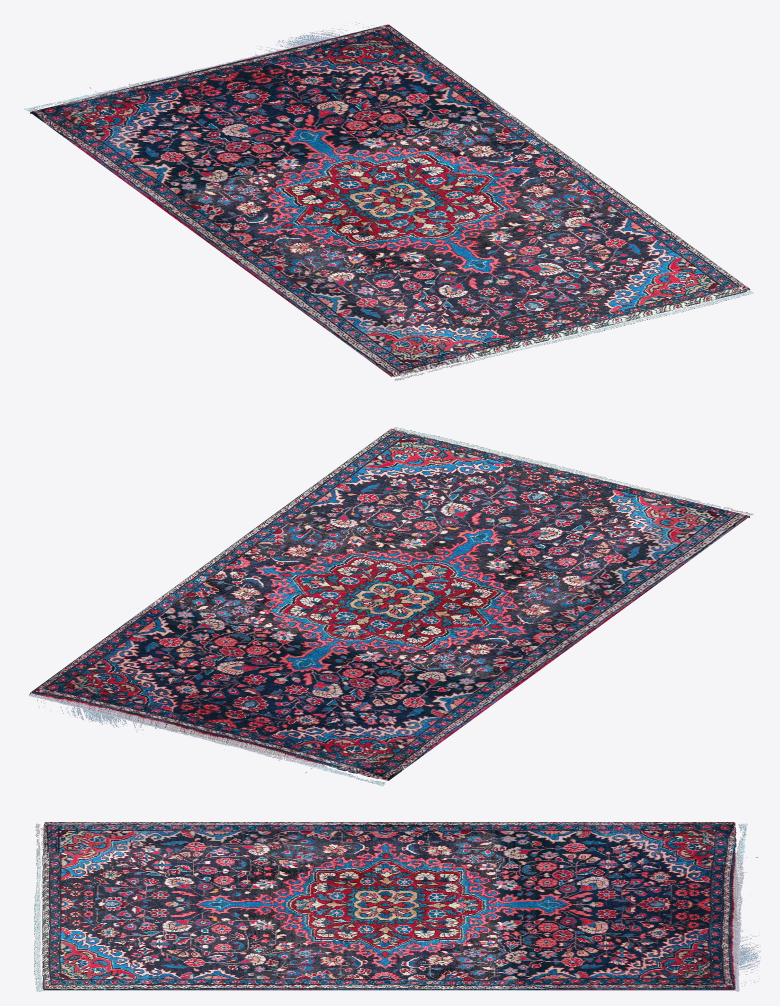
File: jozan-a6237.glb
The picture shows the model from 3 angles, top to bottom: view 1: azimuth 30°, elevation 25°; view 2: azimuth 150°, elevation 25°; view 3: azimuth 270°, elevation 25°; orthographic projection. The views are drawn at different scales.
Parts seen in each view (by area): view 1: rug; view 2: rug; view 3: rug.
Boxes of the visible parts, left/top/right/bottom form: rug: left=24, top=22, right=753, bottom=380; rug: left=29, top=427, right=753, bottom=786; rug: left=34, top=822, right=760, bottom=991.
Size of the model in its own units: 1.04 by 0.0122 by 1.97.
10 materials, 9 textured.
